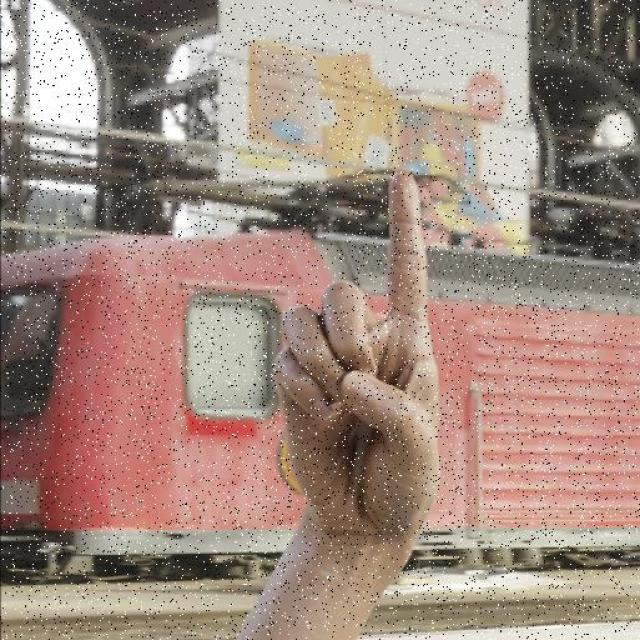D: (271, 165, 440, 541)
